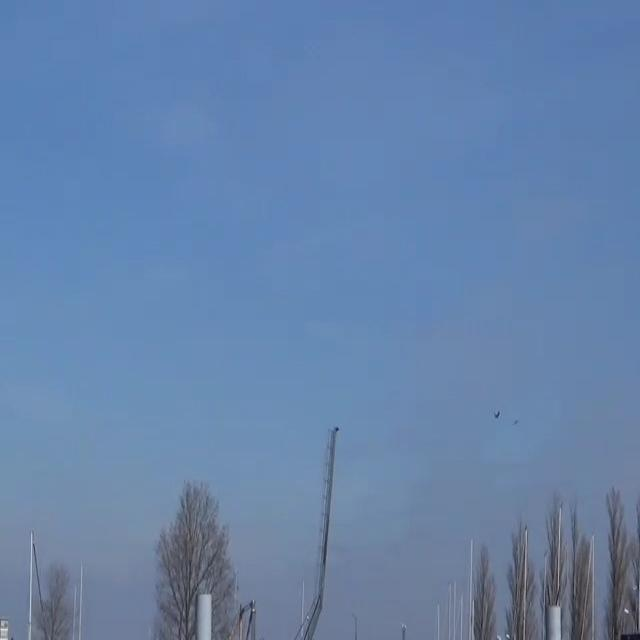bird: (491, 409, 503, 420), (511, 418, 522, 428)
